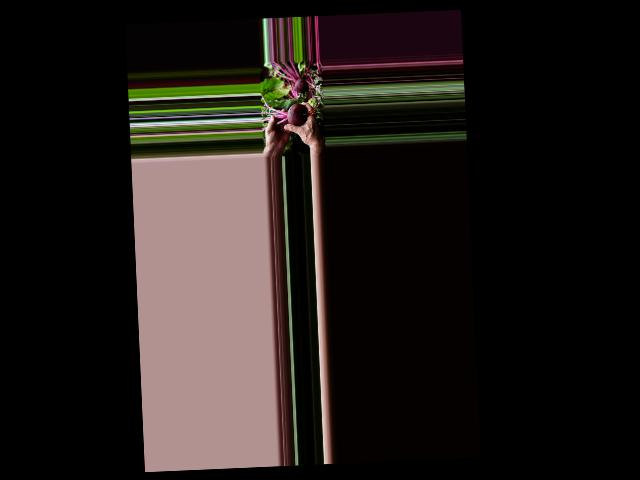beet: (260, 90, 308, 128)
